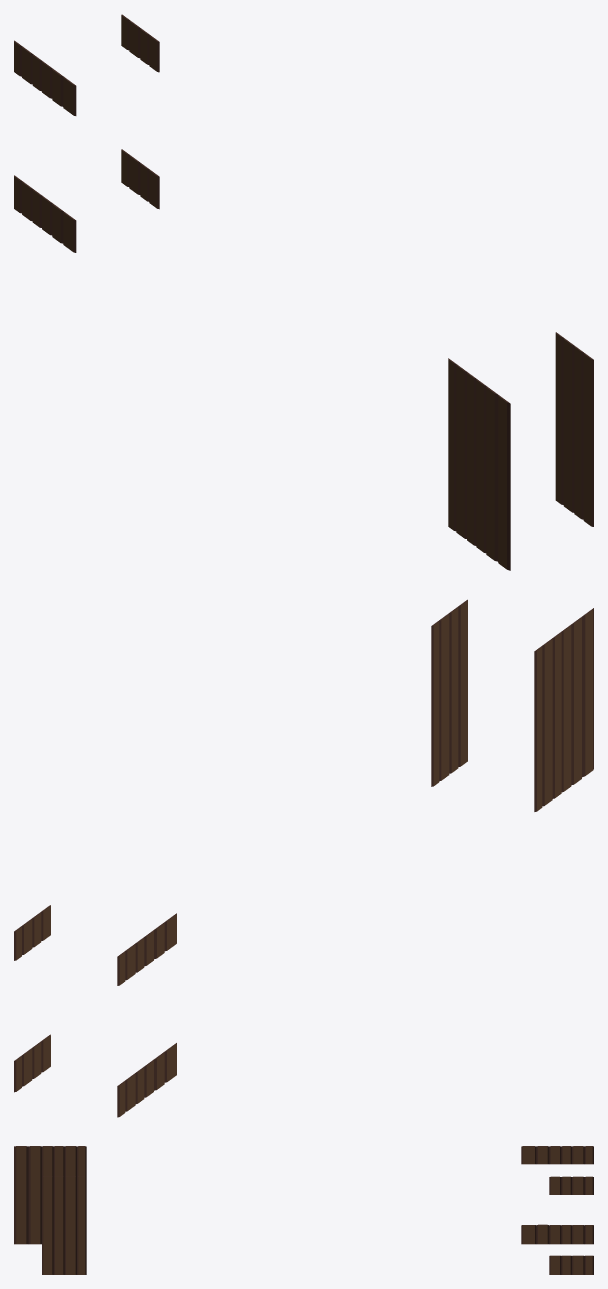
File: WoodWallPanels.fbx
The picture shows the model from 3 angles, top to bottom: view 1: azimuth 30°, elevation 25°; view 2: azimuth 150°, elevation 25°; view 3: azimuth 270°, elevation 25°; orthographic projection. The views are drawn at different scales.
Parts seen in each view (by area): view 1: WoodWallPanelI1, WoodWallPanelI2, WoodWindowPanelI1, WoodWindowPanelI2; view 2: WoodWallPanelI1, WoodWallPanelI2, WoodWindowPanelI1, WoodWindowPanelI2; view 3: WoodWallPanelI2, WoodWallPanelI1, WoodWindowPanelI1, WoodWindowPanelI2.
Part boxes in pixels (<box>): WoodWallPanelI1: <box>448,358,510,570</box>; WoodWallPanelI2: <box>555,332,593,526</box>; WoodWindowPanelI1: <box>14,40,76,252</box>; WoodWindowPanelI2: <box>121,14,159,209</box>; WoodWallPanelI1: <box>534,608,593,811</box>; WoodWallPanelI2: <box>431,599,467,786</box>; WoodWindowPanelI1: <box>117,913,176,1117</box>; WoodWindowPanelI2: <box>14,905,50,1092</box>; WoodWallPanelI2: <box>42,1176,86,1274</box>; WoodWallPanelI1: <box>14,1146,86,1244</box>; WoodWindowPanelI1: <box>521,1146,593,1244</box>; WoodWindowPanelI2: <box>549,1176,593,1274</box>.
Size of the model in its own units: 1.02 by 1.49 by 8.
